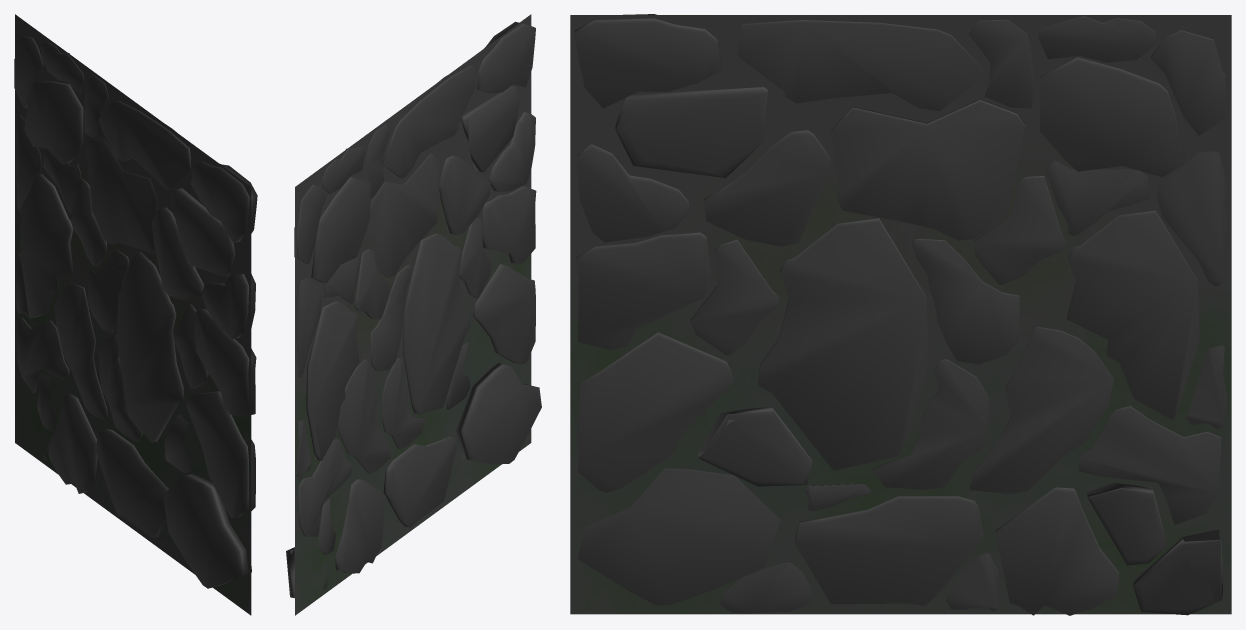
Rendered from parede.fbx.
The picture shows the model from 3 angles, left to right: view 1: azimuth 30°, elevation 25°; view 2: azimuth 150°, elevation 25°; view 3: azimuth 270°, elevation 25°; orthographic projection. The views are drawn at different scales.
Parts seen in each view (by area): view 1: wall, Cube.012, Cube.003, Cube.013, Cube.017, Cube.007, Cube.006, Cube.016, Cube.009, Cube.002, Cube.021, Cube.014 (+17 smaller); view 2: wall, Cube.012, Cube.003, Cube.013, Cube.017, Cube.016, Cube.007, Cube.006, Cube.002, Cube.021, Cube.014, Cube.009 (+18 smaller); view 3: wall, Cube.012, Cube.017, Cube.003, Cube.013, Cube.016, Cube.006, Cube.007, Cube.021, Cube.002, Cube.009, Cube (+21 smaller).
Part boxes in pixels (<box>): wall: <box>15,14,251,615</box>; Cube.012: <box>117,252,184,442</box>; Cube.003: <box>163,473,251,588</box>; Cube.013: <box>20,174,73,318</box>; Cube.017: <box>86,140,157,253</box>; Cube.007: <box>186,391,255,518</box>; Cube.006: <box>96,429,168,537</box>; Cube.016: <box>98,101,191,189</box>; Cube.009: <box>194,308,256,417</box>; Cube.002: <box>24,81,83,164</box>; Cube.021: <box>54,284,108,421</box>; Cube.014: <box>48,394,97,493</box>; wall: <box>295,14,531,615</box>; Cube.012: <box>403,233,470,414</box>; Cube.003: <box>456,363,541,464</box>; Cube.013: <box>306,301,359,460</box>; Cube.017: <box>369,153,441,277</box>; Cube.016: <box>382,65,475,178</box>; Cube.007: <box>473,264,535,364</box>; Cube.006: <box>383,436,456,527</box>; Cube.002: <box>311,177,370,283</box>; Cube.021: <box>338,359,391,473</box>; Cube.014: <box>335,479,385,573</box>; Cube.009: <box>482,186,536,264</box>; wall: <box>570,15,1231,614</box>; Cube.012: <box>758,218,928,470</box>; Cube.017: <box>831,99,1024,240</box>; Cube.003: <box>578,468,780,605</box>; Cube.013: <box>1067,210,1199,420</box>; Cube.016: <box>738,20,987,111</box>; Cube.006: <box>795,496,983,605</box>; Cube.007: <box>577,332,733,492</box>; Cube.021: <box>969,326,1113,493</box>; Cube.002: <box>1040,57,1185,177</box>; Cube.009: <box>576,232,710,349</box>; Cube: <box>615,87,767,178</box>.
Size of the model in its own units: 22.15 by 350 by 350.
